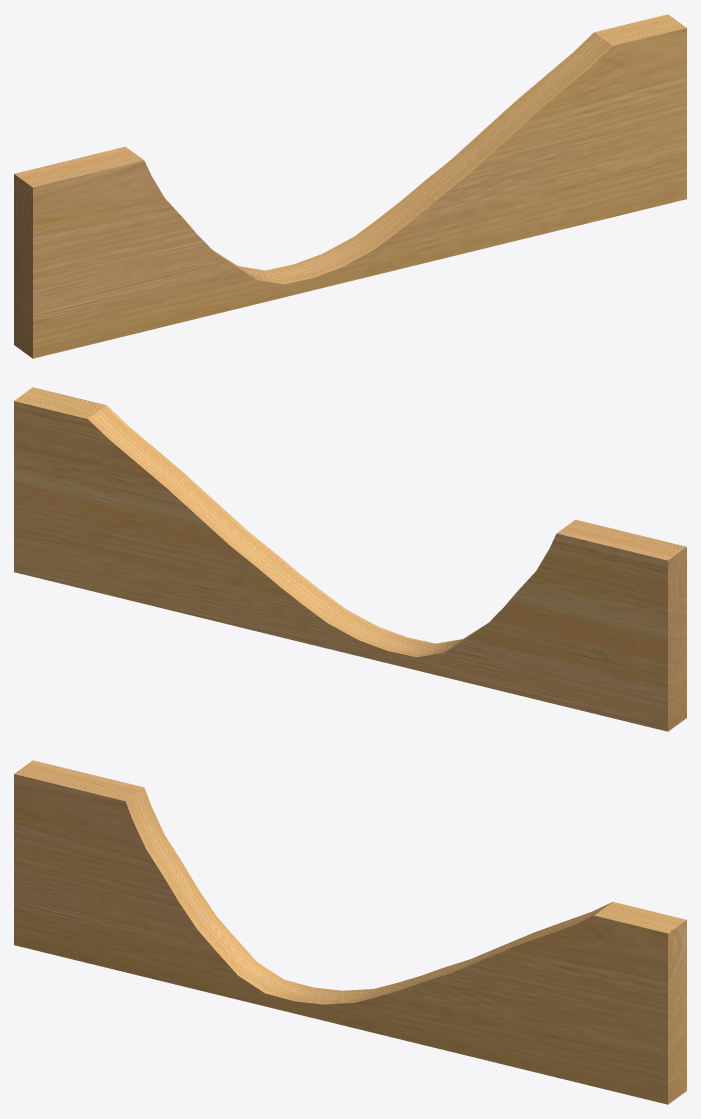
3 renders of one model, top to bottom at view 1: azimuth 30°, elevation 25°; view 2: azimuth 150°, elevation 25°; view 3: azimuth 330°, elevation 25°, orthographic.
Parts seen in each view (by area): view 1: pCube7; view 2: pCube7; view 3: pCube7.
Part boxes in pixels (x1,y1,x2,y2): pCube7: (14, 14, 686, 358); pCube7: (14, 387, 686, 731); pCube7: (14, 760, 686, 1104).
Bounding box in the file's own units: 20 × 5 × 1.
1 material, 1 textured.
